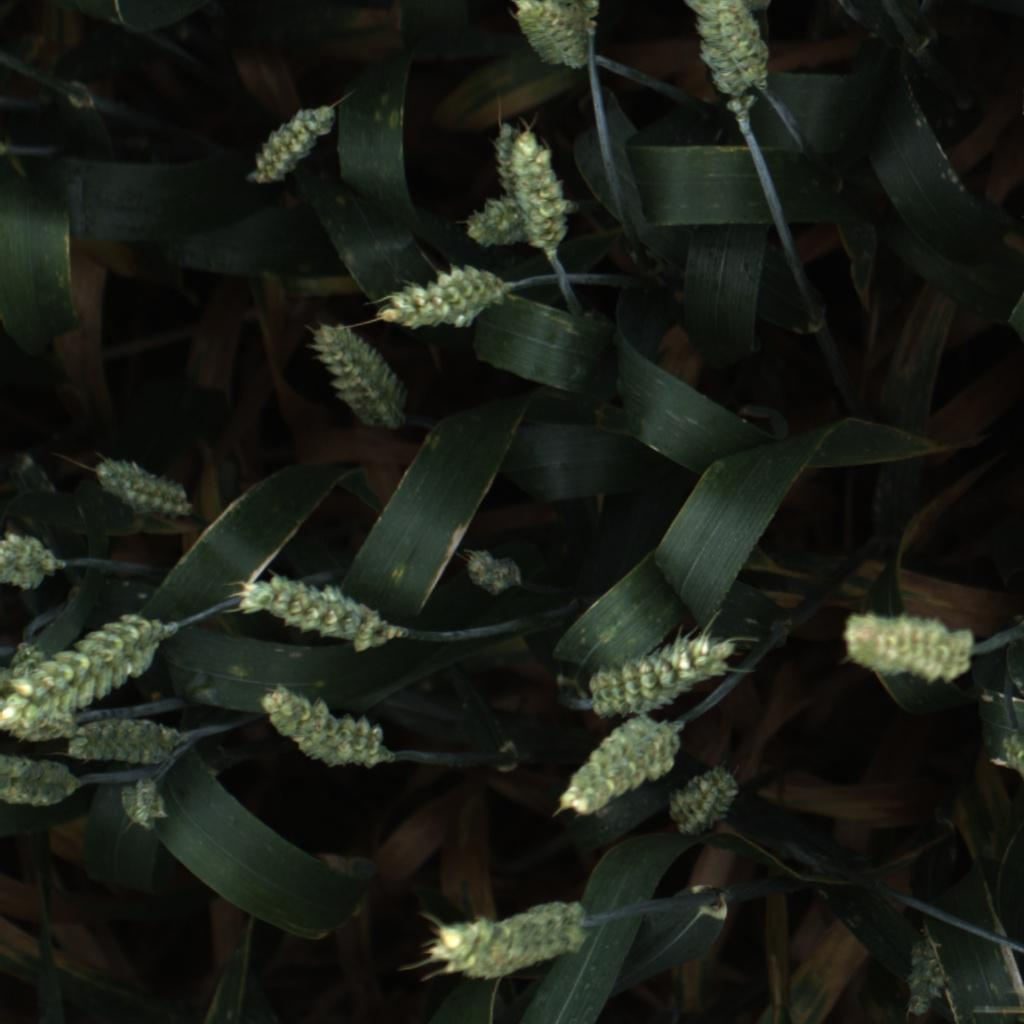0-0: (0, 607, 167, 742), (424, 888, 590, 993), (580, 624, 747, 721), (248, 676, 403, 777), (239, 566, 403, 657), (540, 715, 682, 816), (831, 598, 983, 691), (301, 315, 416, 437), (499, 112, 581, 261), (676, 0, 775, 121), (384, 259, 513, 337), (244, 94, 340, 194), (449, 192, 582, 260), (87, 446, 196, 521), (69, 709, 191, 768), (500, 0, 592, 75), (666, 758, 749, 841), (0, 636, 64, 738), (893, 921, 950, 1021), (455, 536, 532, 609), (0, 742, 81, 811), (0, 519, 61, 595), (106, 770, 176, 836)
